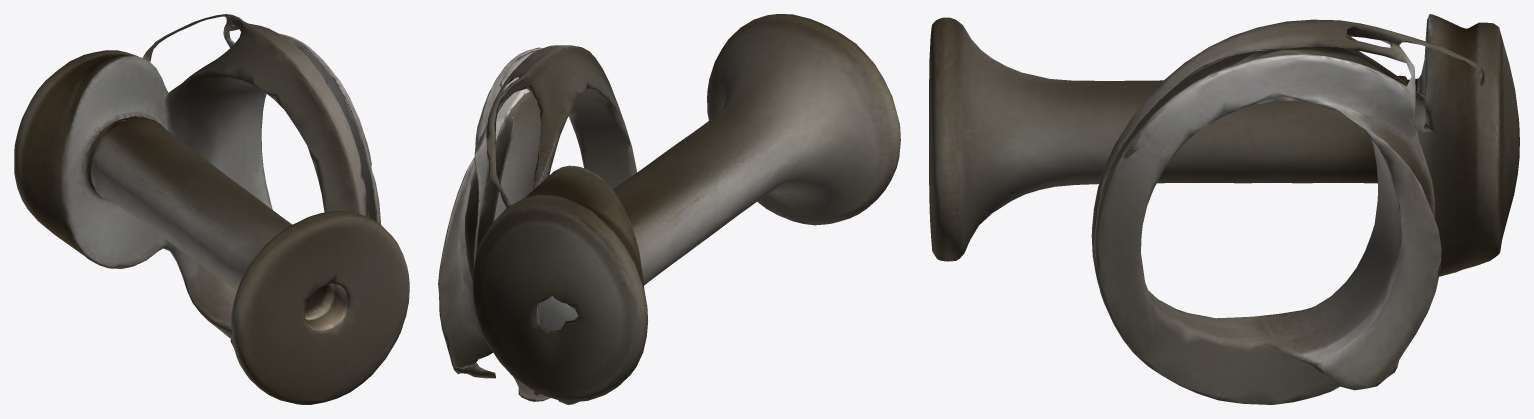
The model's file is kn_spread_choke.glb.
The picture shows the model from 3 angles, left to right: view 1: azimuth 30°, elevation 25°; view 2: azimuth 150°, elevation 25°; view 3: azimuth 270°, elevation 25°; orthographic projection. The views are drawn at different scales.
Visible parts, largest first — view 1: geometry_0; view 2: geometry_0; view 3: geometry_0.
Part boxes in pixels (box(x1,y1,x2,y2)): geometry_0: box(14, 14, 409, 404); geometry_0: box(438, 14, 900, 404); geometry_0: box(929, 14, 1519, 404).
Bounding box in the file's own units: 0.538 × 0.719 × 1.
1 material, 1 textured.
